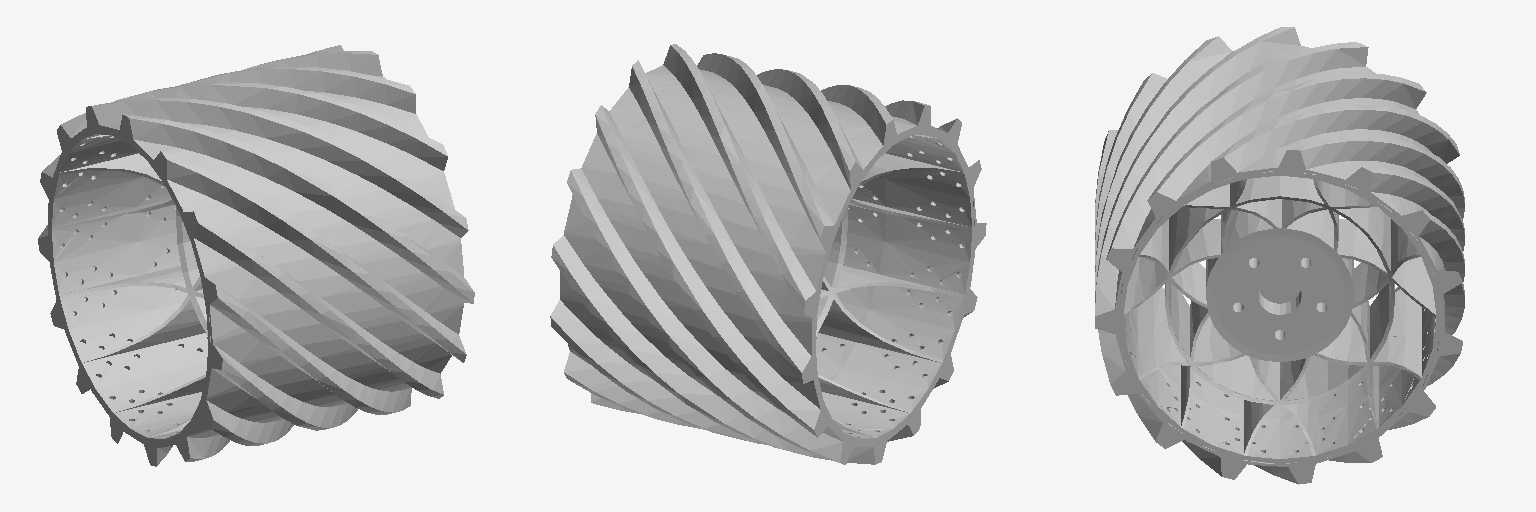
The model's file is fullwheelcw.obj.
The picture shows the model from 3 angles: view 1: azimuth 30°, elevation 25°; view 2: azimuth 150°, elevation 25°; view 3: azimuth 270°, elevation 25°; orthographic projection.
Parts seen in each view (by area): view 1: obj_[number redacted]; view 2: obj_[number redacted]; view 3: obj_[number redacted].
Part boxes in pixels (x1,y1,x2,y2): obj_[number redacted]: (38,45,474,466); obj_[number redacted]: (550,44,986,464); obj_[number redacted]: (1095,27,1464,484).
Bounding box in the file's own units: 0.22 × 0.2802 × 0.2802.